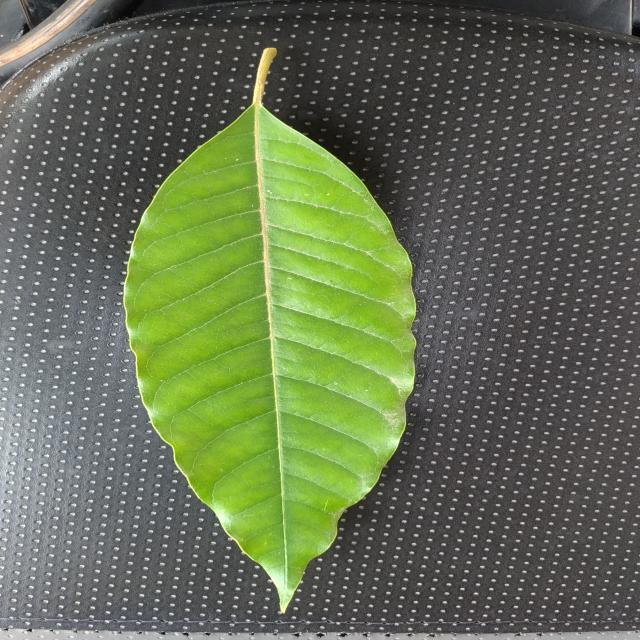coffee: (9, 4, 638, 632)
